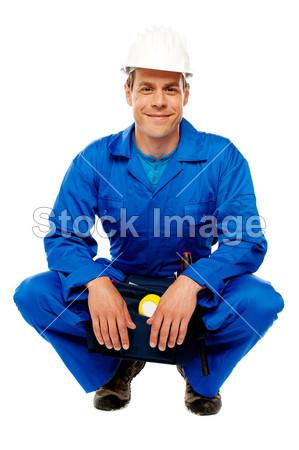helmet: (117, 29, 196, 78)
